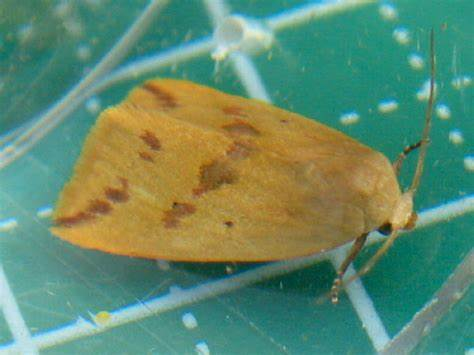Noctuidae: (46, 26, 438, 303)
